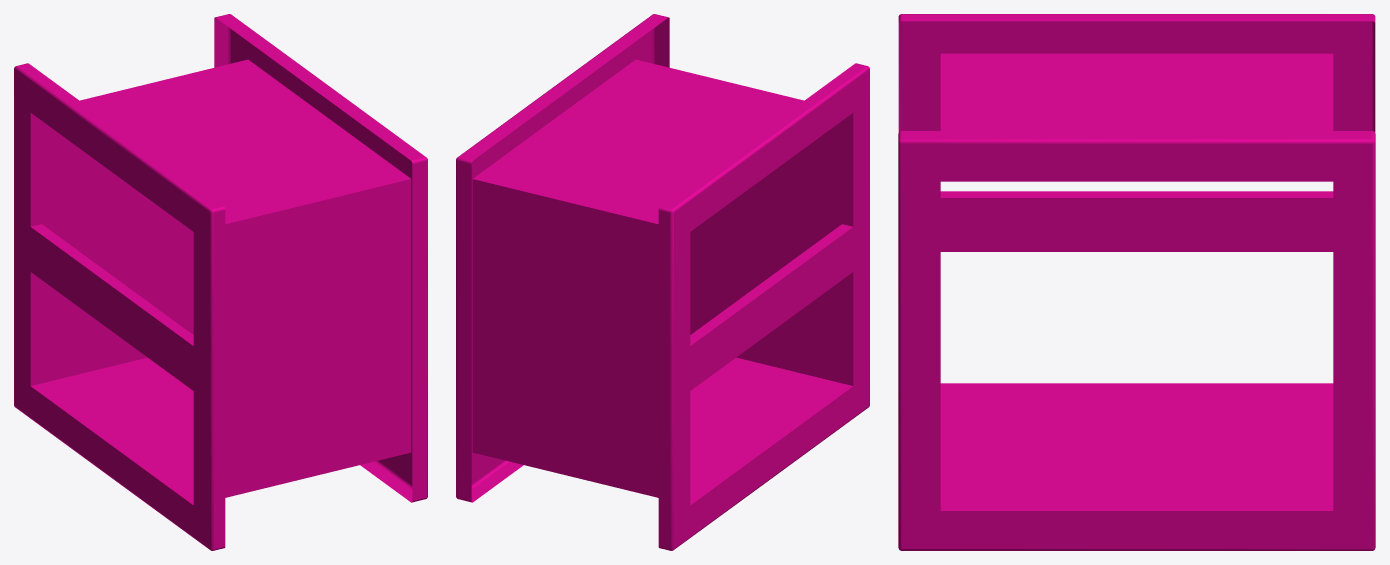
The model's file is Wall_05_Vent 1.fbx.
The picture shows the model from 3 angles, left to right: view 1: azimuth 30°, elevation 25°; view 2: azimuth 150°, elevation 25°; view 3: azimuth 270°, elevation 25°; orthographic projection. The views are drawn at different scales.
Parts seen in each view (by area): view 1: Wall_05_Vent; view 2: Wall_05_Vent; view 3: Wall_05_Vent.
Part boxes in pixels (left/top/right/bottom): Wall_05_Vent: left=14, top=14, right=427, bottom=550; Wall_05_Vent: left=456, top=14, right=869, bottom=550; Wall_05_Vent: left=898, top=14, right=1375, bottom=550.
Size of the model in its own units: 215 by 323 by 340.
